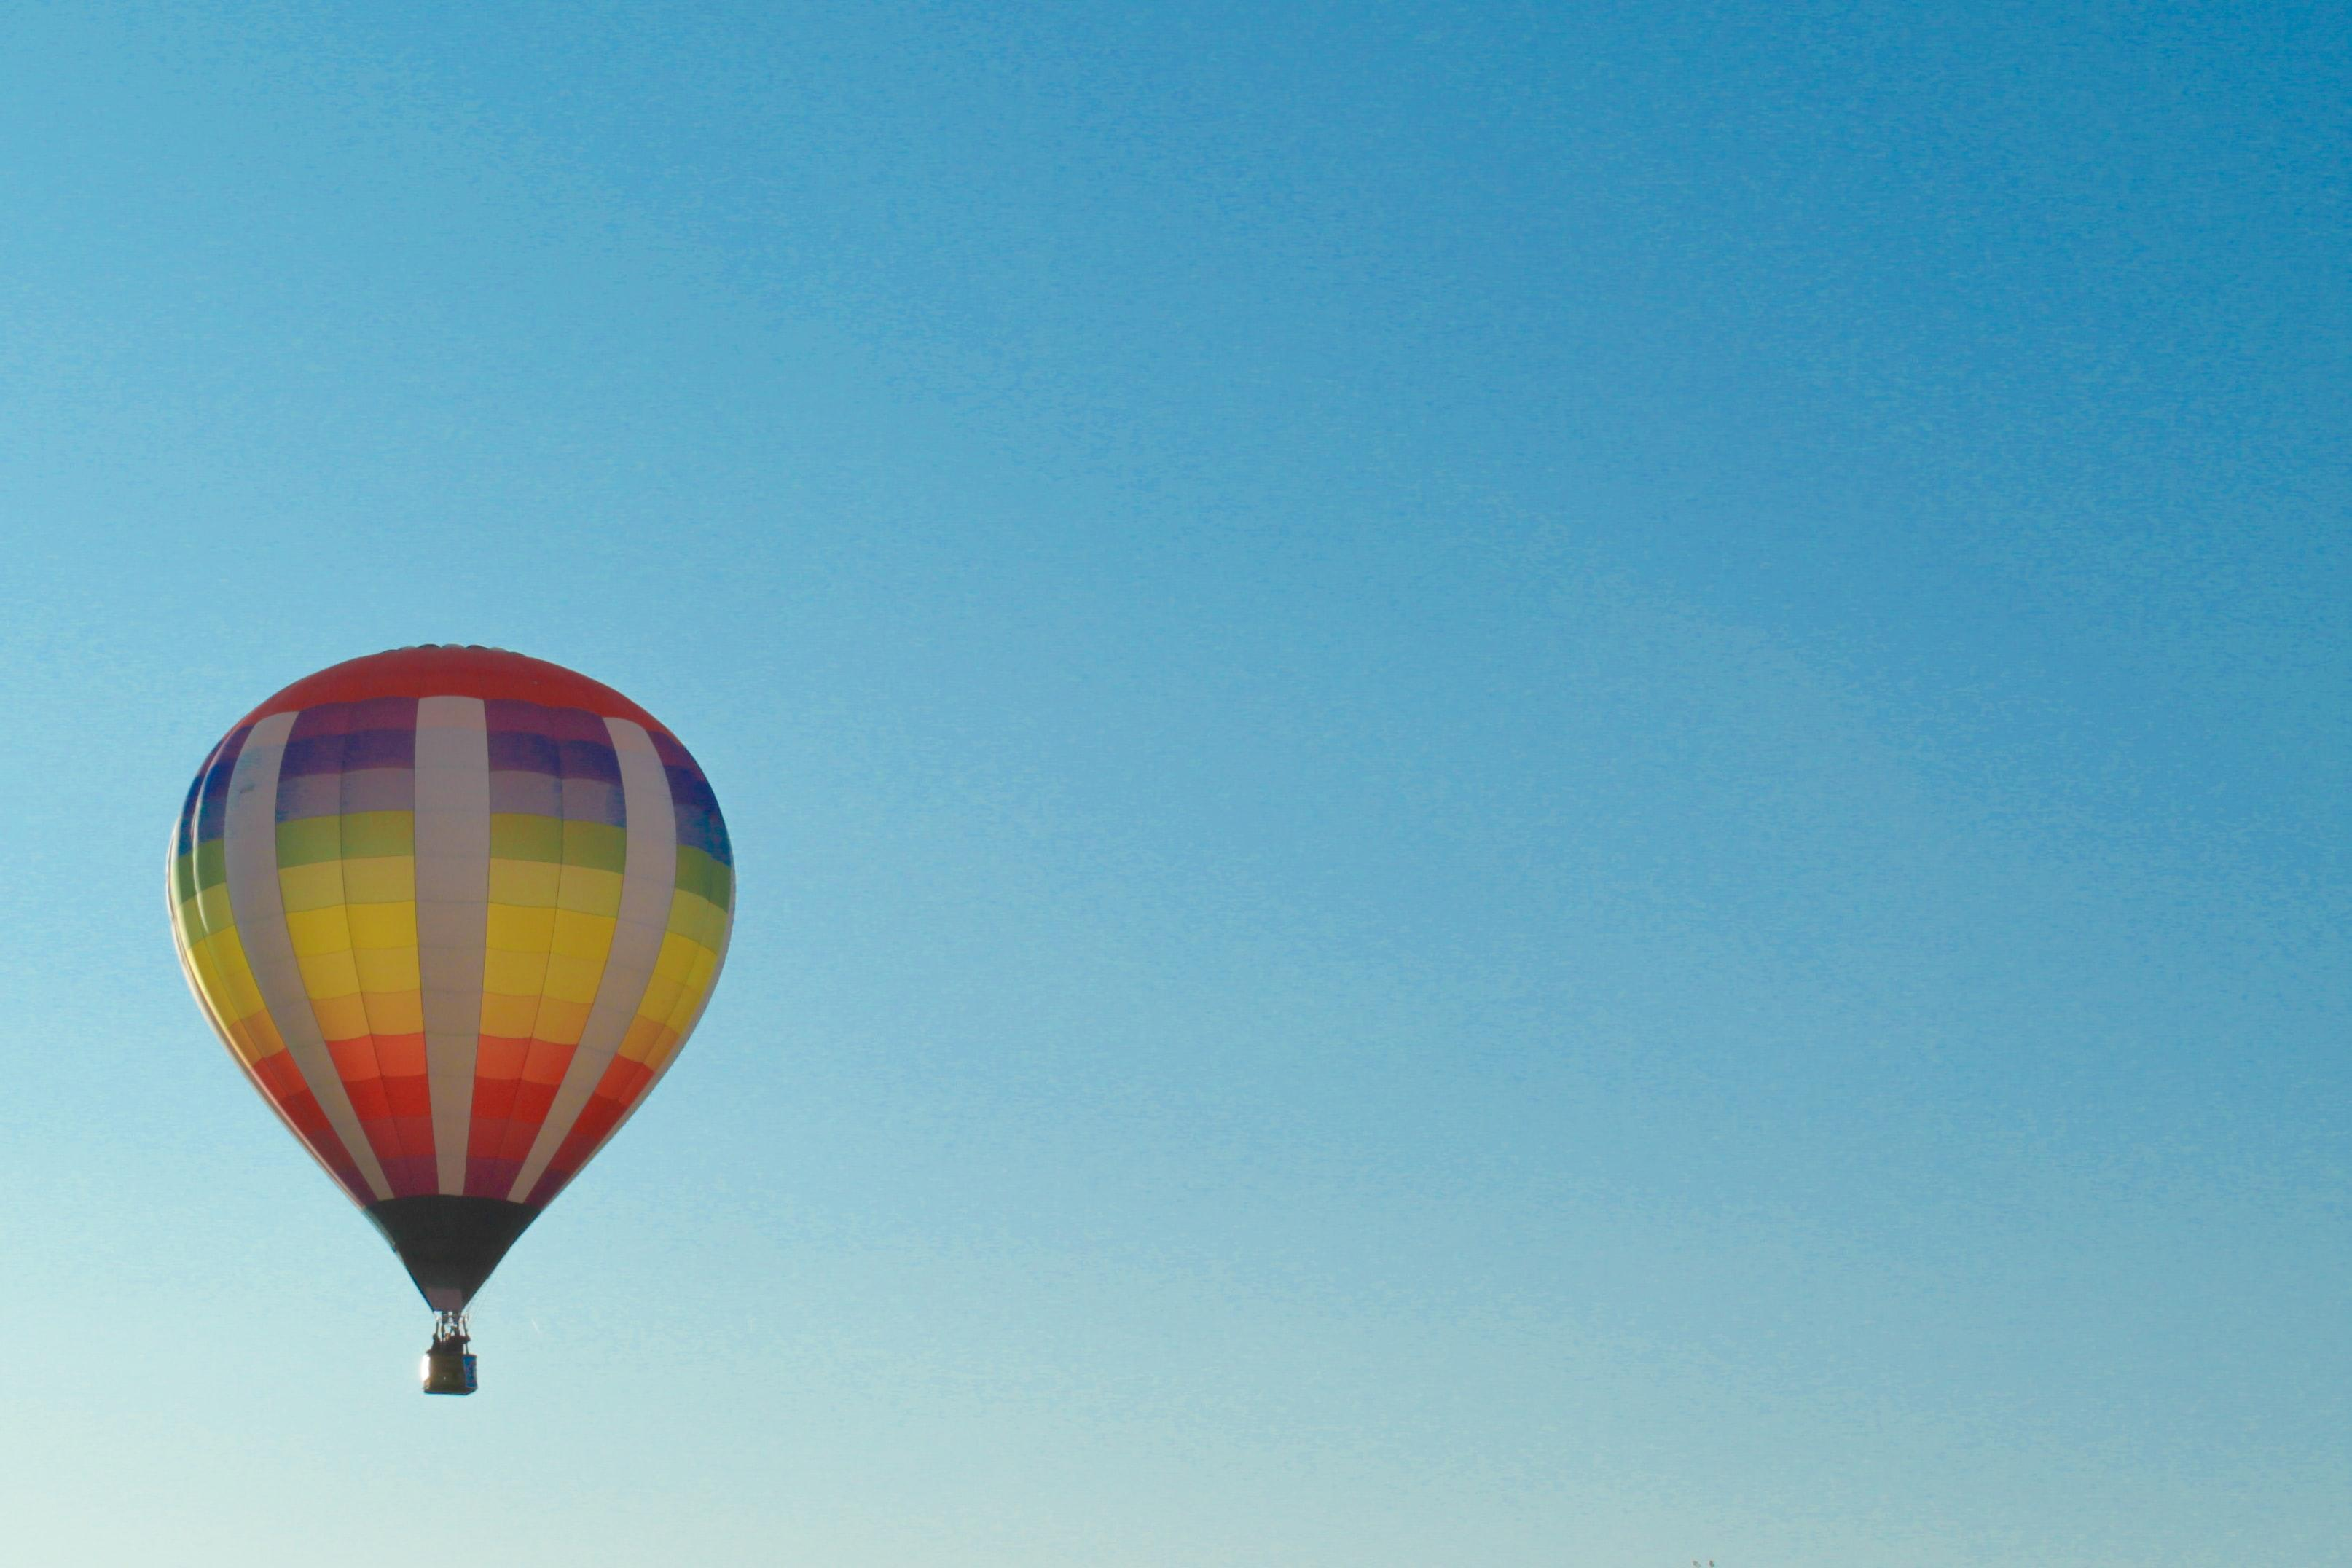hot air ballon: (163, 642, 738, 1395)
